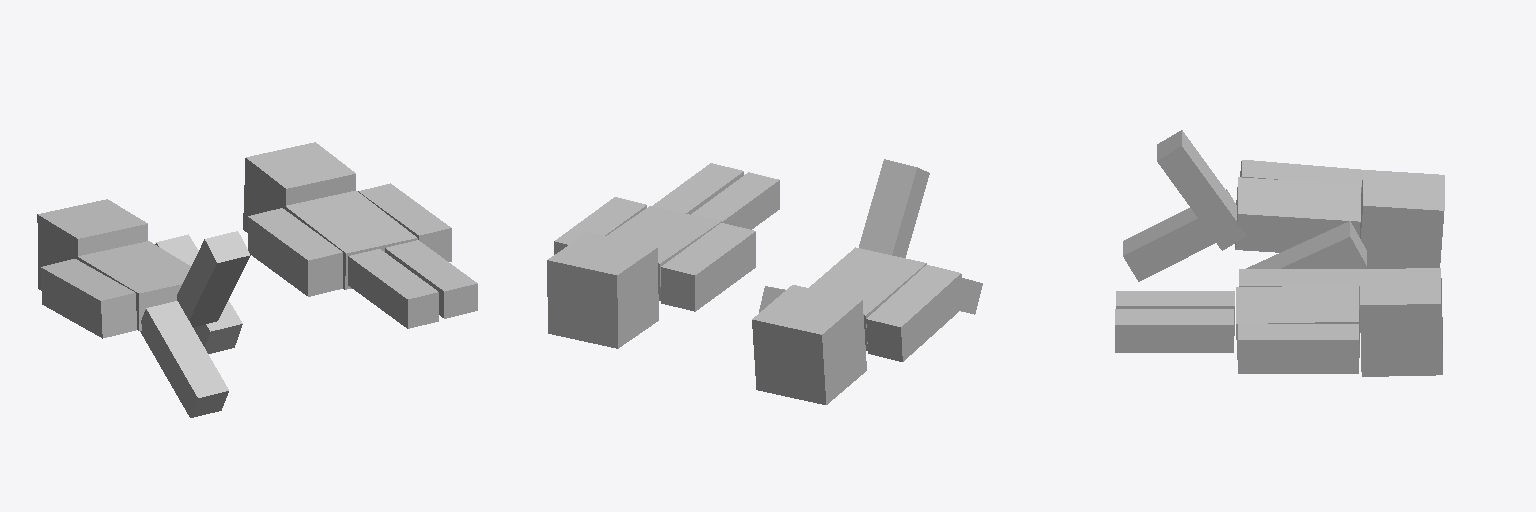
File: steve_000038.obj
3 views of the same model, side by side, from view 1: azimuth 30°, elevation 25°; view 2: azimuth 150°, elevation 25°; view 3: azimuth 270°, elevation 25° (orthographic).
Visible parts, largest first — view 1: Cube.001_Cube.002, Cube_Cube.001; view 2: Cube.001_Cube.002, Cube_Cube.001; view 3: Cube.001_Cube.002, Cube_Cube.001.
Boxes of the visible parts, box(x1,y1,x2,y2) form: Cube.001_Cube.002: box(243, 142, 477, 328); Cube_Cube.001: box(37, 199, 250, 417); Cube.001_Cube.002: box(547, 163, 779, 348); Cube_Cube.001: box(752, 159, 982, 404); Cube.001_Cube.002: box(1115, 268, 1442, 376); Cube_Cube.001: box(1123, 130, 1444, 281).
Size of the model in its own units: 6.55 by 2.78 by 5.36.